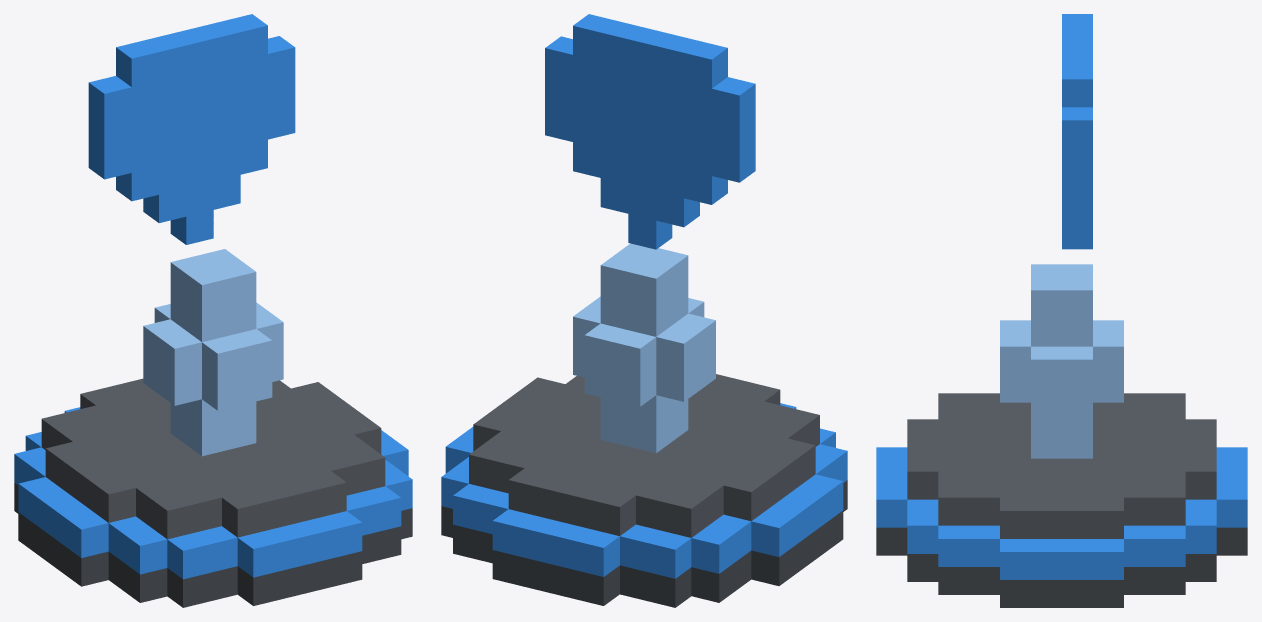
File: prop_buff_shield.glb
3 renders of one model, left to right at view 1: azimuth 30°, elevation 25°; view 2: azimuth 150°, elevation 25°; view 3: azimuth 270°, elevation 25°, orthographic. The views are drawn at different scales.
Visible parts, largest first — view 1: prop_buff_shield; view 2: prop_buff_shield; view 3: prop_buff_shield.
Boxes of the visible parts, x1,y1,x2,y2 form: prop_buff_shield: (14,14,412,607); prop_buff_shield: (441,14,847,607); prop_buff_shield: (876,14,1247,607).
Size of the model in its own units: 0.6 by 0.85 by 0.6.
